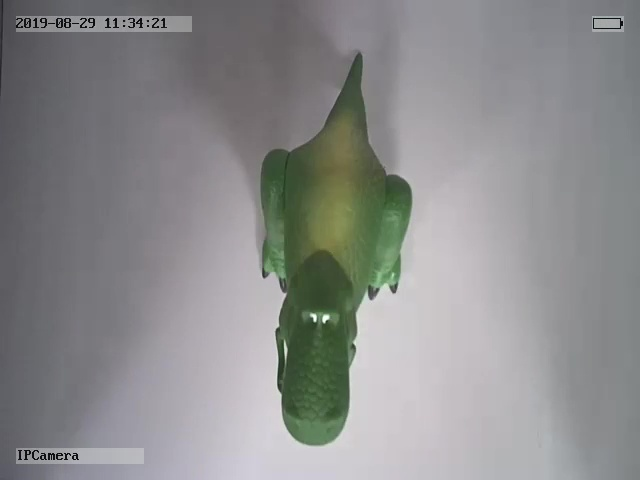rex: (257, 51, 413, 447)
